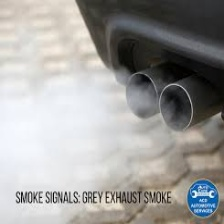smoke: (3, 83, 119, 183)
